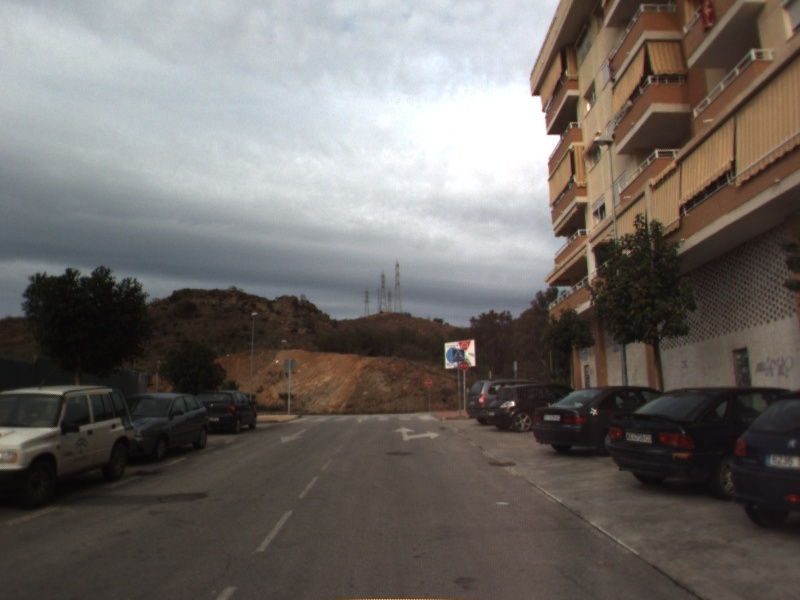STRAIGHT_RIGHT: (390, 424, 442, 443)
